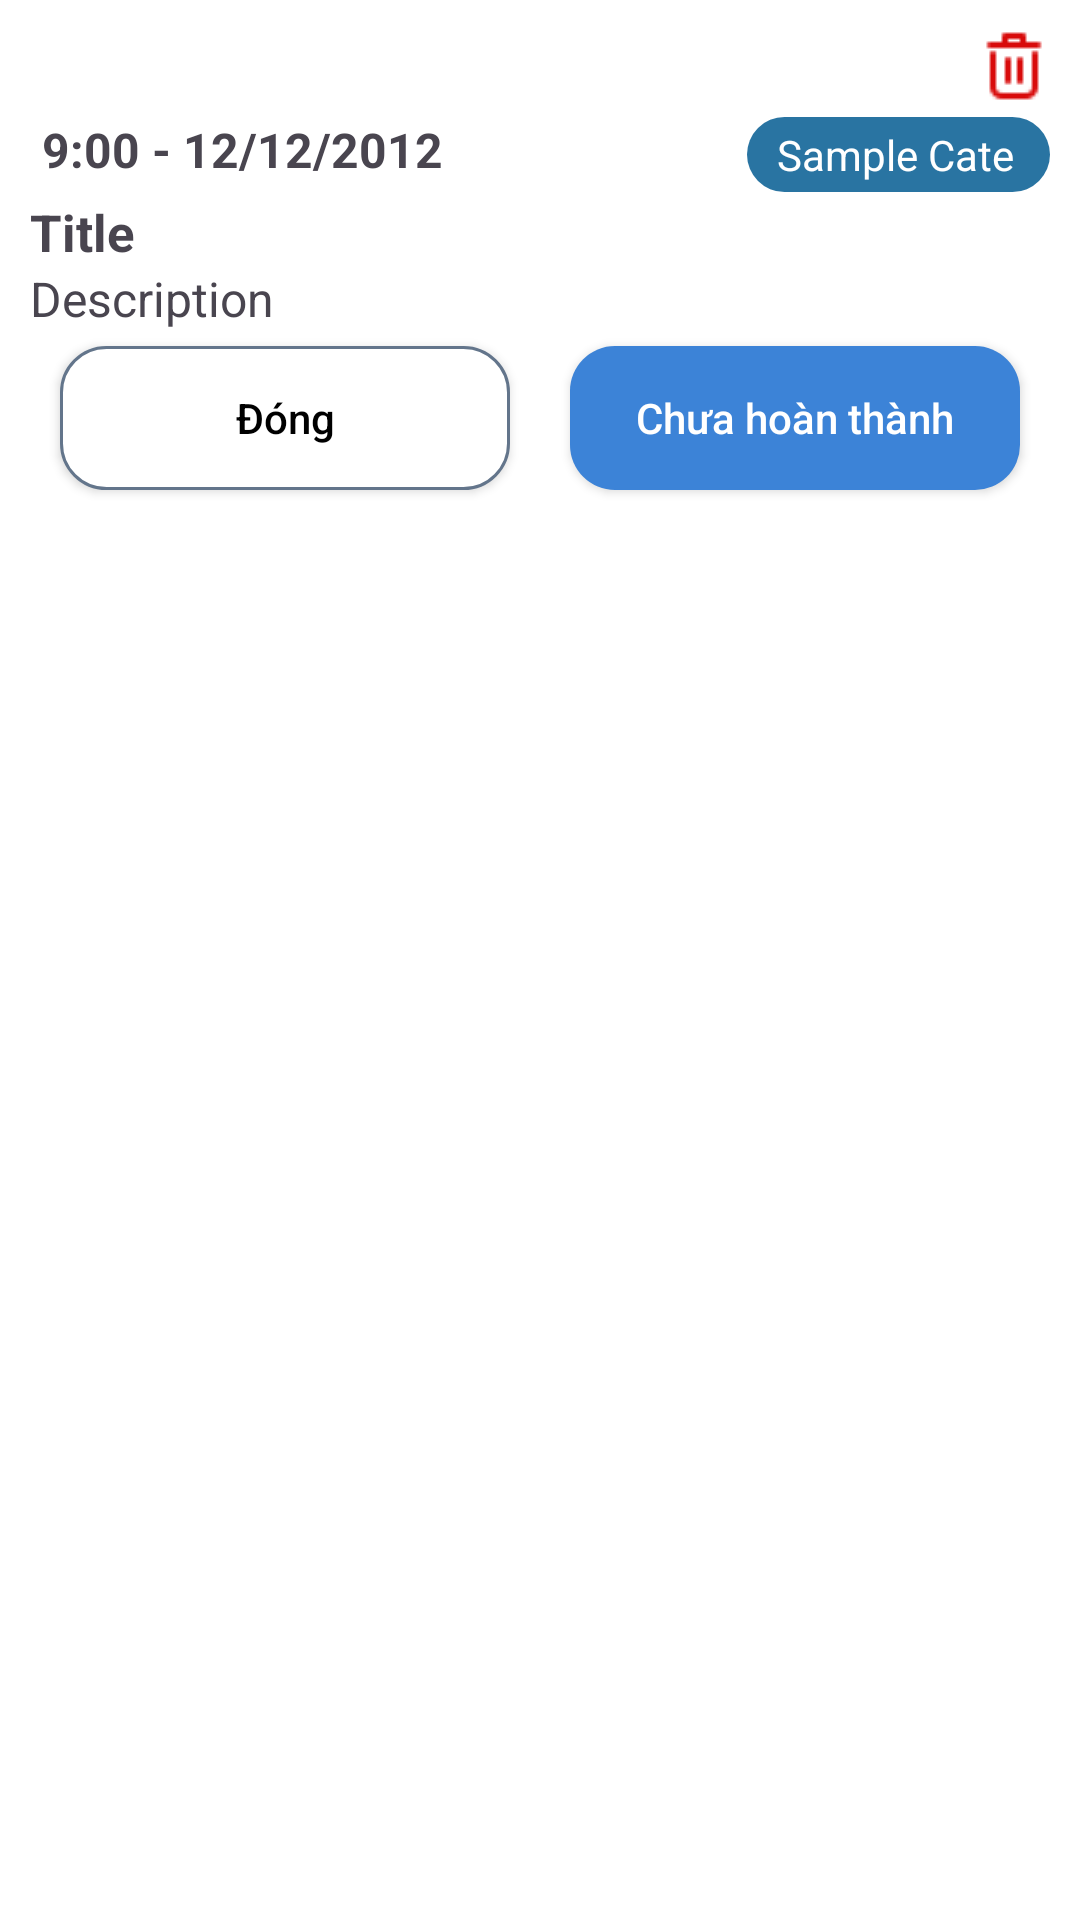

Locate icon controls on the screen. Image size 1080 x 1920, boxes as (x1, y1, x2, y2).
delete: (986, 32, 1042, 100)
